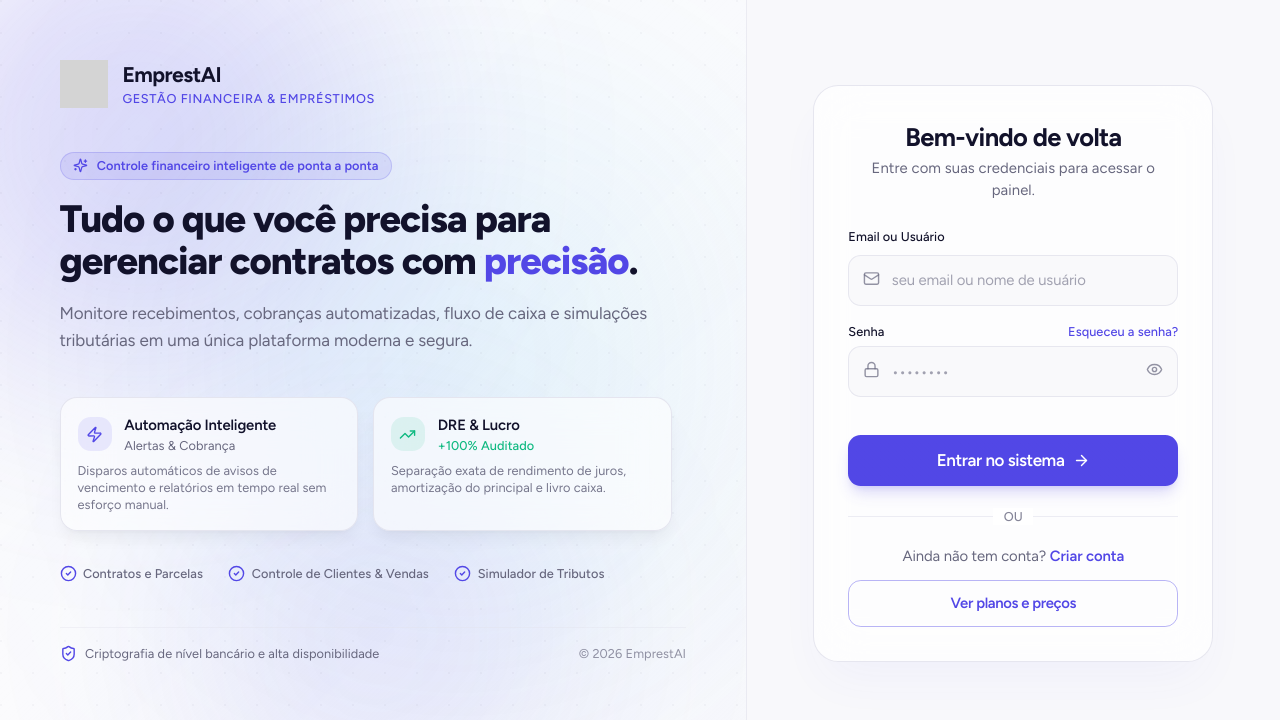
it: Auth Page (Split Screen Login e Recuperação de Acesso) › permite navegar para recuperação de senha e voltar para o login
Click the button "Esqueceu a senha?" at (1123, 331), box [1068,323,1178,340]
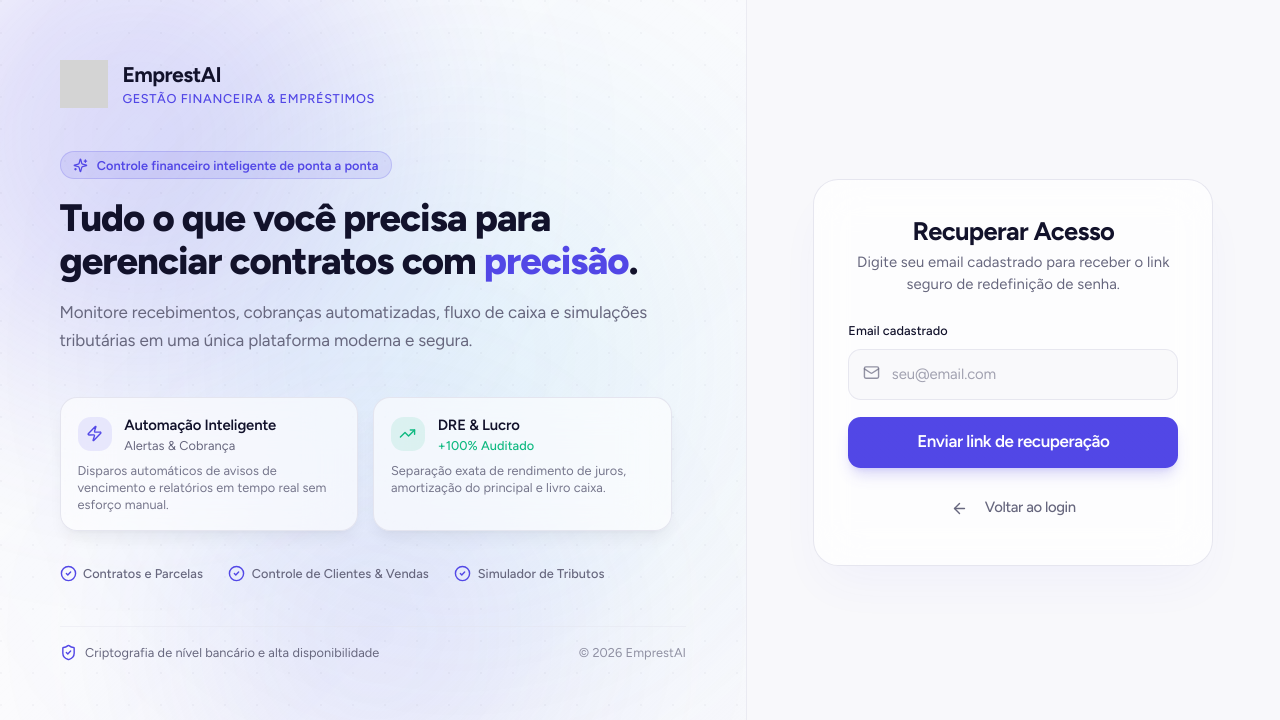
Expected: the field labelled "Email cadastrado" is shown, [848,349,1178,400]
Result: the heading "Recuperar Acesso" is shown at [912,216,1114,246]
Result: the button "Enviar link de recuperação" is shown at [848,417,1178,468]
Click the button "Voltar ao login" at (1013, 508), box [848,485,1178,532]
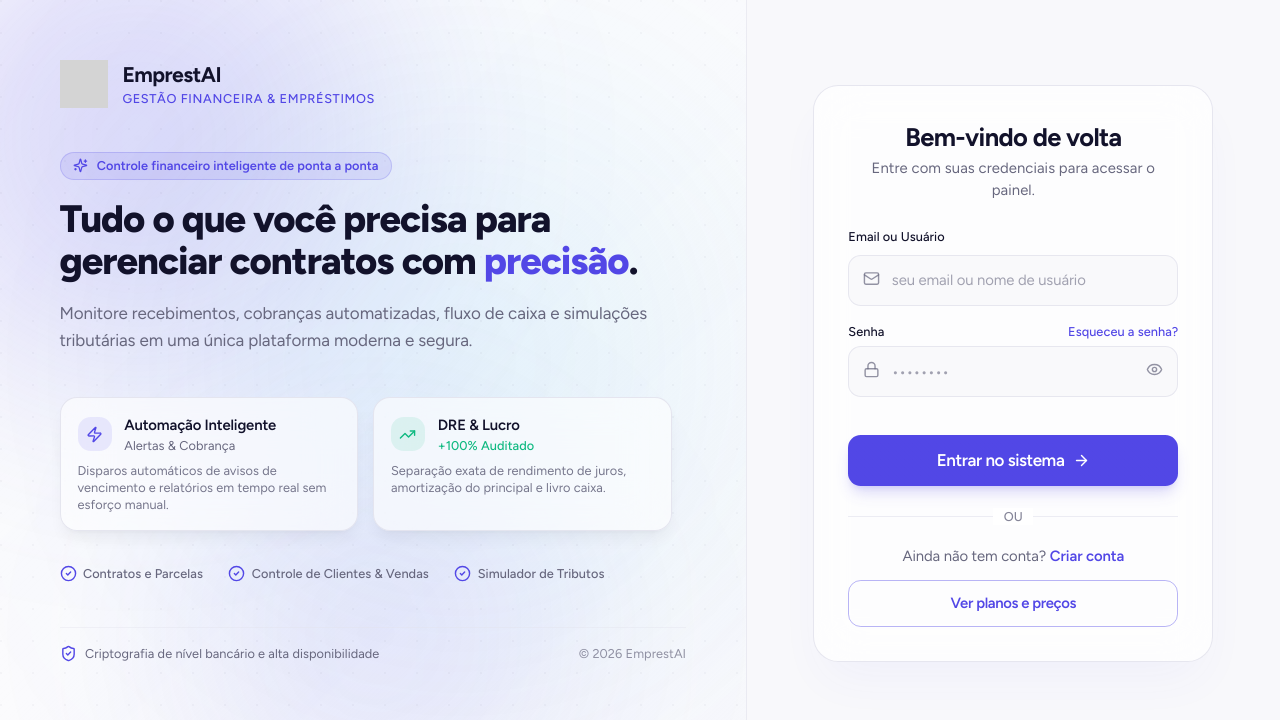
Result: the heading "Bem-vindo de volta" is shown at [905,122,1121,152]
